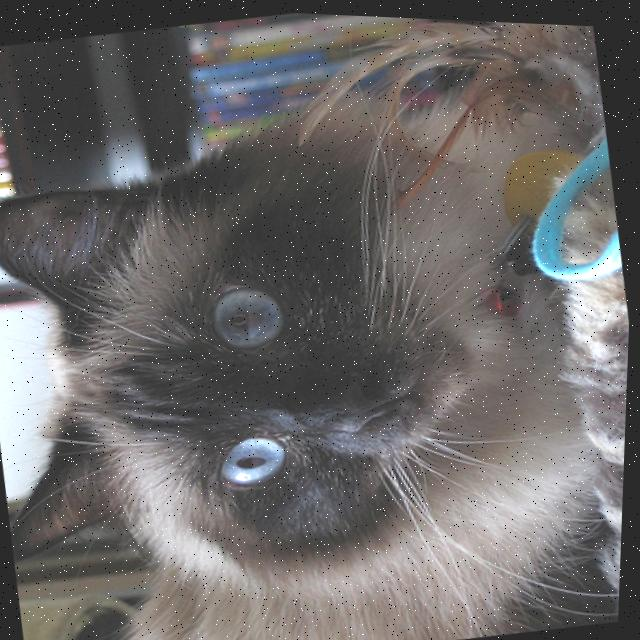Birman: (0, 54, 638, 640)
